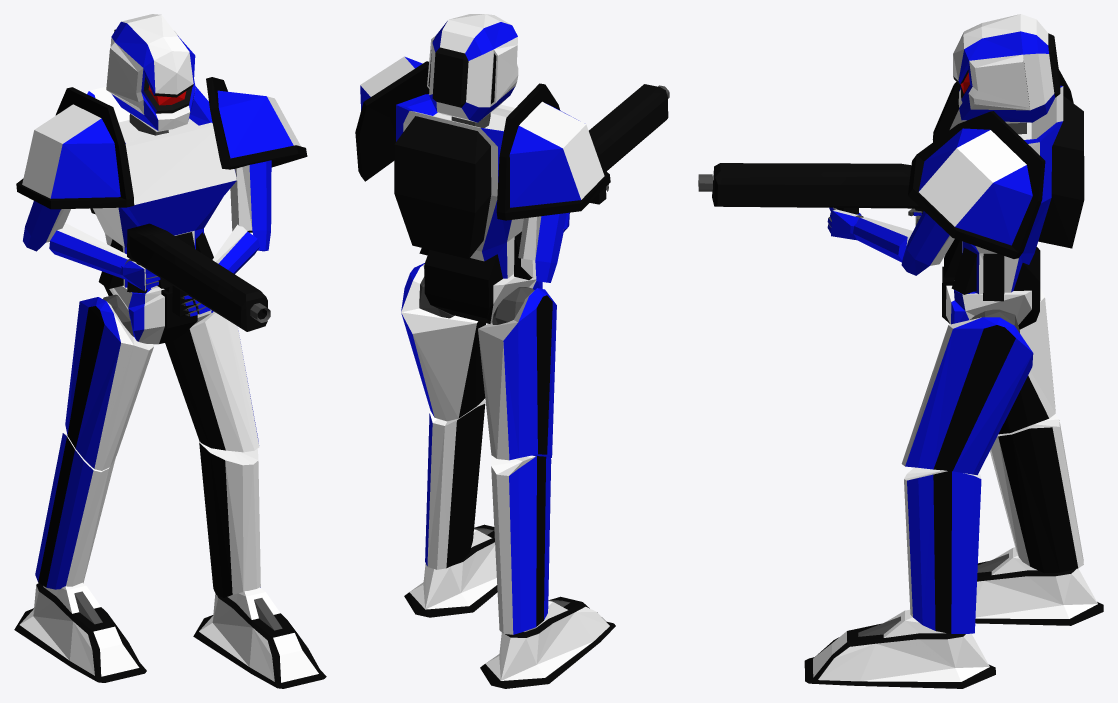
File: robots_000001.obj
3 renders of one model, left to right at view 1: azimuth 30°, elevation 25°; view 2: azimuth 150°, elevation 25°; view 3: azimuth 270°, elevation 25°, orthographic. The views are drawn at different scales.
Parts seen in each view (by area): view 1: Chest_plate_Cube.004, Cube.002_Cube.059, R_Thigh_Cube.005, R_Thigh.002_Cube.027, Head_base_Cube.022, R_Shin.002_Cube.029, R_Foot_Cube, R_Foot.002_Cube.035, Cube_Cube.001, R_Shin_Cube.007, Cube_Cube.021, Pelvis_Cube.006 (+5 smaller); view 2: Chest_plate_Cube.004, Cube.002_Cube.059, R_Thigh_Cube.005, R_Shin_Cube.007, Head_base_Cube.022, R_Shin.002_Cube.029, R_Thigh.002_Cube.027, R_Foot_Cube, Pelvis_Cube.006, Cube_Cube.021, R_Foot.002_Cube.035, Cube_Cube.001 (+2 smaller); view 3: Cube_Cube.021, R_Thigh.002_Cube.027, R_Shin.002_Cube.029, Chest_plate_Cube.004, R_Shin_Cube.007, R_Foot.002_Cube.035, Head_base_Cube.022, Cube_Cube.001, R_Foot_Cube, R_Thigh_Cube.005, Pelvis_Cube.006, L_Arm_Cube.014 (+3 smaller).
Part boxes in pixels (left/top/right/bottom): Chest_plate_Cube.004: left=87, top=86, right=236, bottom=293; Cube.002_Cube.059: left=16, top=87, right=134, bottom=209; R_Thigh_Cube.005: left=65, top=297, right=154, bottom=470; R_Thigh.002_Cube.027: left=165, top=311, right=259, bottom=452; Head_base_Cube.022: left=106, top=14, right=195, bottom=131; R_Shin.002_Cube.029: left=199, top=441, right=260, bottom=597; R_Foot_Cube: left=14, top=582, right=146, bottom=682; R_Foot.002_Cube.035: left=193, top=587, right=326, bottom=688; Cube_Cube.001: left=127, top=223, right=270, bottom=331; R_Shin_Cube.007: left=35, top=433, right=115, bottom=589; Cube_Cube.021: left=206, top=77, right=307, bottom=169; Pelvis_Cube.006: left=104, top=285, right=213, bottom=344; Chest_plate_Cube.004: left=394, top=94, right=532, bottom=279; Cube.002_Cube.059: left=496, top=83, right=610, bottom=220; R_Thigh_Cube.005: left=478, top=288, right=556, bottom=460; R_Shin_Cube.007: left=491, top=455, right=551, bottom=634; Head_base_Cube.022: left=427, top=14, right=518, bottom=122; R_Shin.002_Cube.029: left=425, top=400, right=485, bottom=569; R_Thigh.002_Cube.027: left=401, top=263, right=485, bottom=421; R_Foot_Cube: left=480, top=596, right=615, bottom=688; Pelvis_Cube.006: left=423, top=249, right=542, bottom=324; Cube_Cube.021: left=355, top=56, right=429, bottom=181; R_Foot.002_Cube.035: left=404, top=524, right=497, bottom=617; Cube_Cube.001: left=589, top=84, right=669, bottom=204; Cube_Cube.021: left=908, top=111, right=1045, bottom=258; R_Thigh.002_Cube.027: left=901, top=317, right=1033, bottom=475; R_Shin.002_Cube.029: left=904, top=467, right=981, bottom=633; Chest_plate_Cube.004: left=944, top=85, right=1084, bottom=301; R_Shin_Cube.007: left=990, top=414, right=1083, bottom=573; R_Foot.002_Cube.035: left=804, top=609, right=995, bottom=688; Head_base_Cube.022: left=953, top=14, right=1060, bottom=123; Cube_Cube.001: left=698, top=163, right=923, bottom=215; R_Foot_Cube: left=975, top=547, right=1103, bottom=625; R_Thigh_Cube.005: left=998, top=288, right=1055, bottom=434; Pelvis_Cube.006: left=942, top=247, right=1040, bottom=329; L_Arm_Cube.014: left=901, top=211, right=954, bottom=275.
Size of the model in its own units: 1.32 by 3.04 by 1.79.
